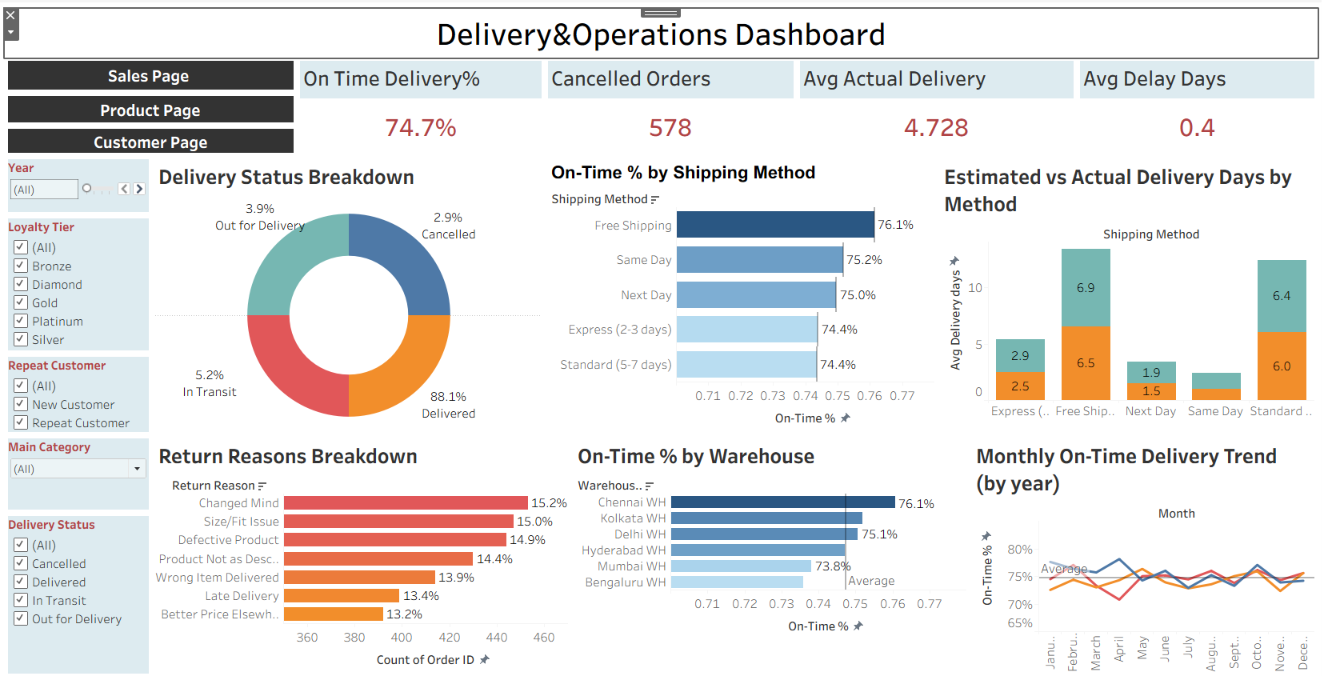

This screenshot's page, from the dashboard's own definition file:
{"tool":"tableau","page":{"name":"Dashboard 4","canvas":[1000,1000],"units":"permille","ordinal":3},"visuals":[{"type":"text","box":[4.8,9.4,990.3,71.6]},{"type":"dashboard-object","box":[4.8,81,220.6,51.7]},{"type":"worksheet","title":"Sheet 31","mark":"Automatic","box":[225.4,81,187,144.6]},{"type":"worksheet","title":"Sheet 32","mark":"Automatic","box":[412.4,81,190,144.6]},{"type":"worksheet","title":"Sheet 33","mark":"Automatic","box":[602.5,81,211,144.6]},{"type":"worksheet","title":"Sheet 34","mark":"Automatic","box":[813.5,81,181.7,144.6]},{"type":"dashboard-object","box":[4.8,132.7,220.6,48.2]},{"type":"dashboard-object","box":[4.8,180.9,220.6,44.7]},{"type":"filter","title":"Delivery Status Breakdown","param":"[federated.0h8pdpr1l5hpsp1gd3y1a19098aw].[none:Year:ok]","box":[4.8,225.6,110.8,86.8]},{"type":"worksheet","title":"Delivery Status Breakdown","mark":"Pie","rows":["Calculation_1629538815139841","Calculation_1629538815139841"],"box":[115.6,225.6,296.7,409.7]},{"type":"worksheet","title":"On-Time % by Shipping Method","mark":"Automatic","rows":["Shipping Method"],"cols":["Calculation_1629538820329474"],"box":[412.3,225.6,296,409.7]},{"type":"worksheet","title":"Estimated vs Actual Delivery Days by Method","mark":"Bar","cols":["Shipping Method"],"box":[708.4,225.6,286.8,409.7]},{"type":"filter","title":"Delivery Status Breakdown","param":"[federated.0h8pdpr1l5hpsp1gd3y1a19098aw].[none:Loyalty Tier:nk]","box":[4.8,312.4,110.8,203.4]},{"type":"filter","title":"Delivery Status Breakdown","param":"[federated.0h8pdpr1l5hpsp1gd3y1a19098aw].[none:Repeat Customer:nk]","box":[4.8,515.8,110.8,119.5]},{"type":"filter","title":"Delivery Status Breakdown","param":"[federated.0h8pdpr1l5hpsp1gd3y1a19098aw].[none:Main Category:nk]","box":[4.8,635.3,111,114.4]},{"type":"worksheet","title":"Return Reasons Breakdown","mark":"Automatic","rows":["Return Reason"],"cols":["Order ID"],"box":[115.8,635.3,316.4,355.3]},{"type":"worksheet","title":"On-Time % by Warehouse","mark":"Automatic","rows":["Warehouse Location"],"cols":["Calculation_1629538820329474"],"box":[432.2,635.3,300.4,355.3]},{"type":"worksheet","title":"Monthly On-Time Delivery Trend (by year)","mark":"Line","rows":["Calculation_1629538820329474"],"cols":["Month"],"box":[732.5,635.3,262.6,355.3]},{"type":"filter","title":"Delivery Status Breakdown","param":"[federated.0h8pdpr1l5hpsp1gd3y1a19098aw].[none:Delivery Status:nk]","box":[4.8,749.7,111,240.9]}]}

Visuals, with their boxes on the dashboard's canvas, which has no fixed pixel size, in thousandths of its width and height (x1, y1, x2, y2). These are canvas units, not pixel positions in the 1322x677 screenshot, which may show the page scaled, cropped or inside an application window:
text: <region>5, 9, 995, 81</region>
dashboard-object: <region>5, 81, 225, 133</region>
"Sheet 31" worksheet: <region>225, 81, 412, 226</region>
"Sheet 32" worksheet: <region>412, 81, 602, 226</region>
"Sheet 33" worksheet: <region>602, 81, 814, 226</region>
"Sheet 34" worksheet: <region>814, 81, 995, 226</region>
dashboard-object: <region>5, 133, 225, 181</region>
dashboard-object: <region>5, 181, 225, 226</region>
"Delivery Status Breakdown" filter: <region>5, 226, 116, 312</region>
"Delivery Status Breakdown" worksheet (Pie marks): <region>116, 226, 412, 635</region>
"On-Time % by Shipping Method" worksheet: <region>412, 226, 708, 635</region>
"Estimated vs Actual Delivery Days by Method" worksheet (Bar marks): <region>708, 226, 995, 635</region>
"Delivery Status Breakdown" filter: <region>5, 312, 116, 516</region>
"Delivery Status Breakdown" filter: <region>5, 516, 116, 635</region>
"Delivery Status Breakdown" filter: <region>5, 635, 116, 750</region>
"Return Reasons Breakdown" worksheet: <region>116, 635, 432, 991</region>
"On-Time % by Warehouse" worksheet: <region>432, 635, 733, 991</region>
"Monthly On-Time Delivery Trend (by year)" worksheet (Line marks): <region>732, 635, 995, 991</region>
"Delivery Status Breakdown" filter: <region>5, 750, 116, 991</region>
